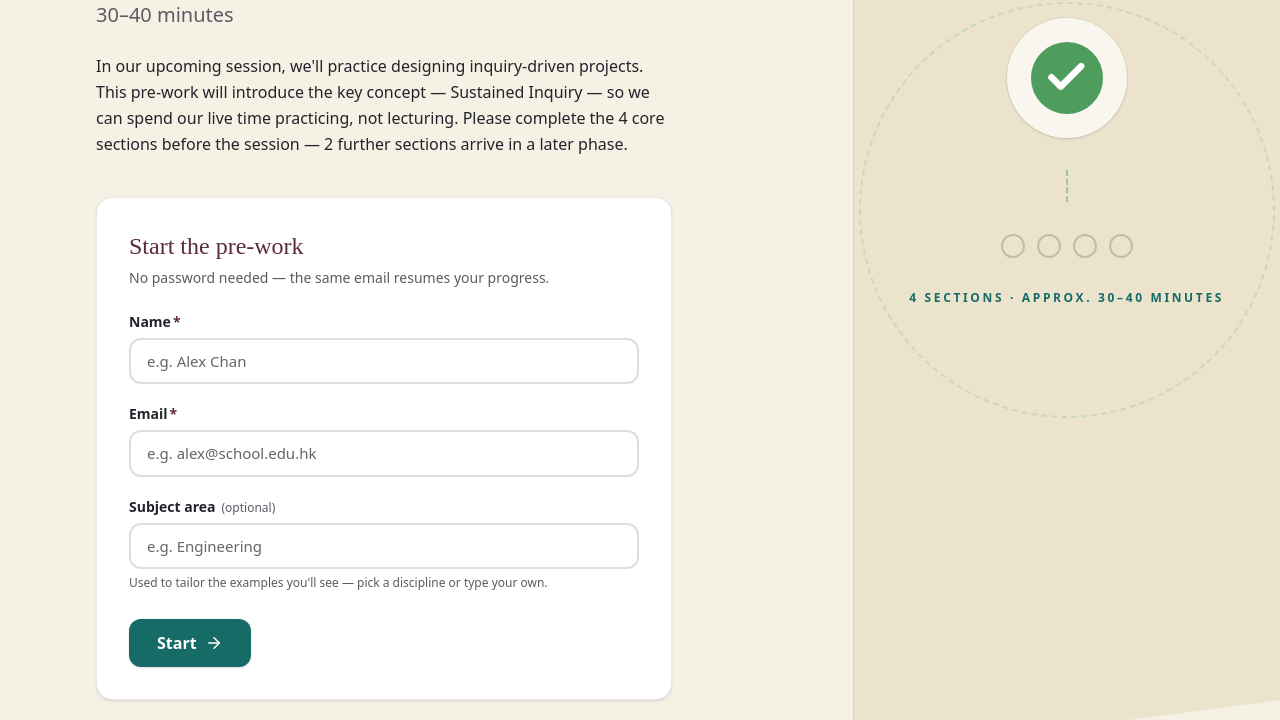
Landing › blocks submit when the email format is invalid
This screenshot has width=1280, height=720.
(page scrolled)
Expected: the button "Start" is shown, [129,619,251,667]
Step 1. Type "Alex Chan" into the field labelled "Name*" → [384, 361], box [129,338,639,384]
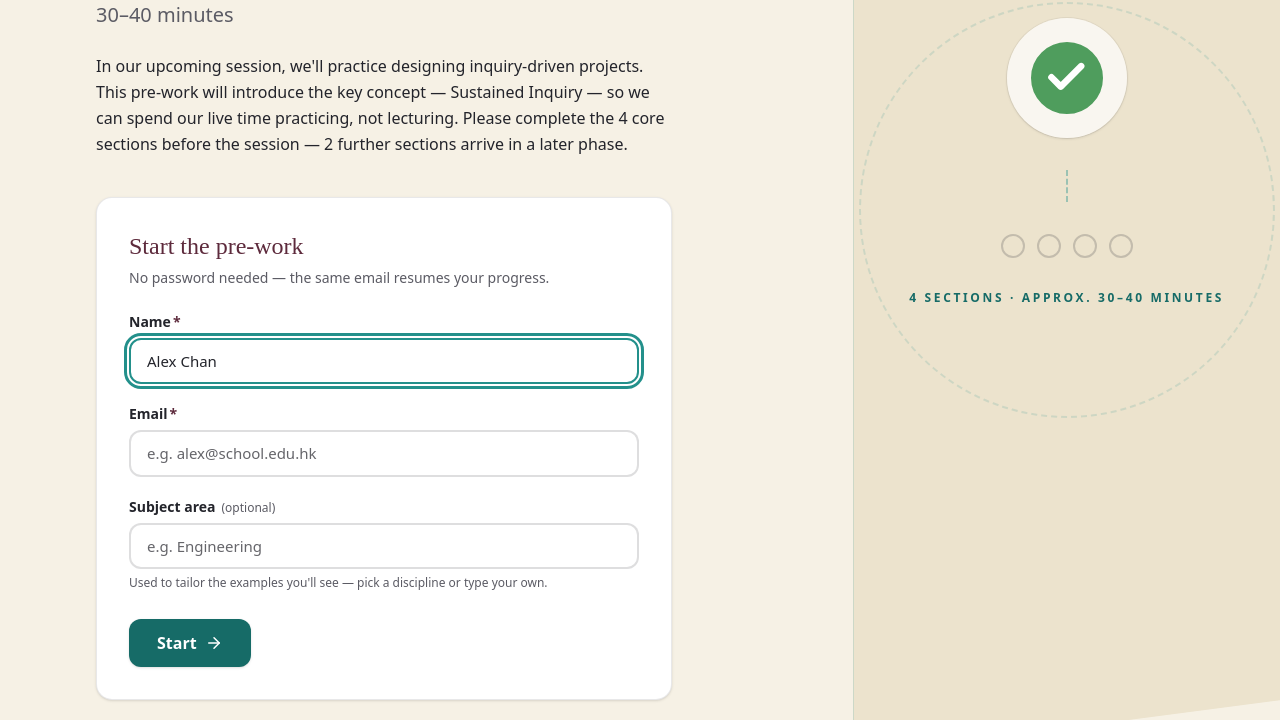
Step 2. Type "not-an-email" into the field labelled "Email*" → [384, 453], box [129,430,639,477]
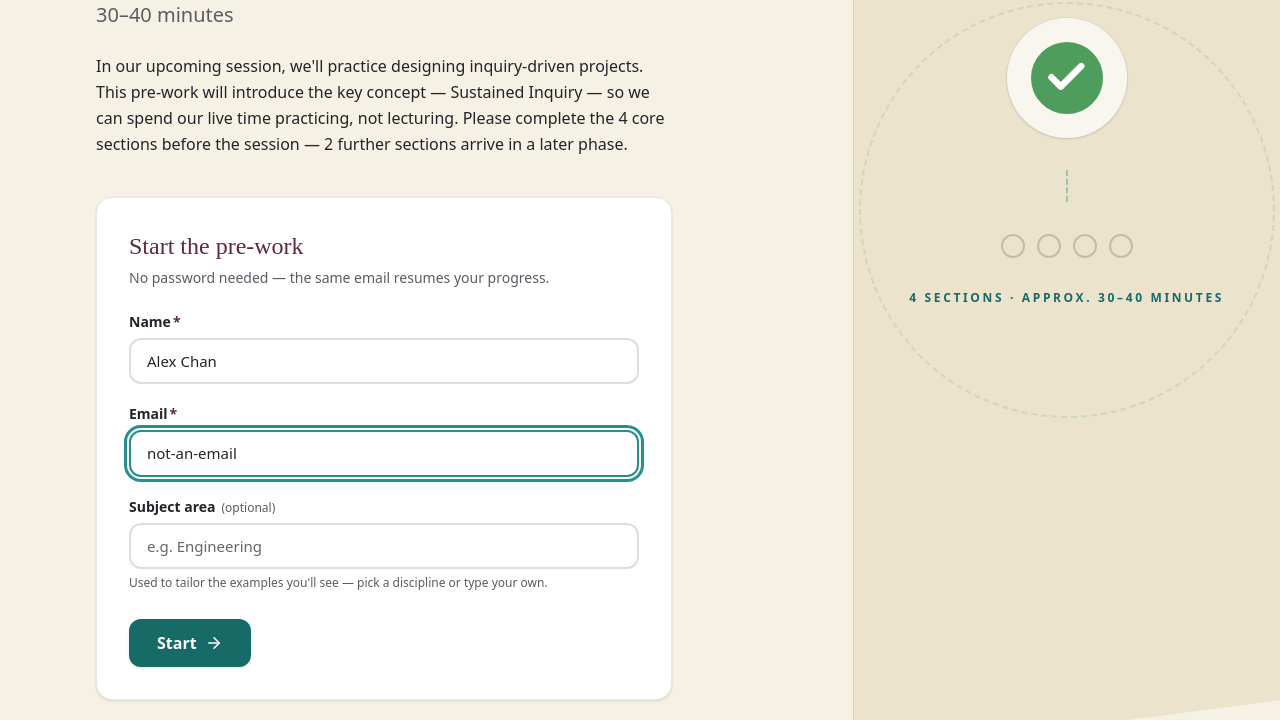
Step 3. Click the button "Start" → [190, 643], box [129,619,251,667]
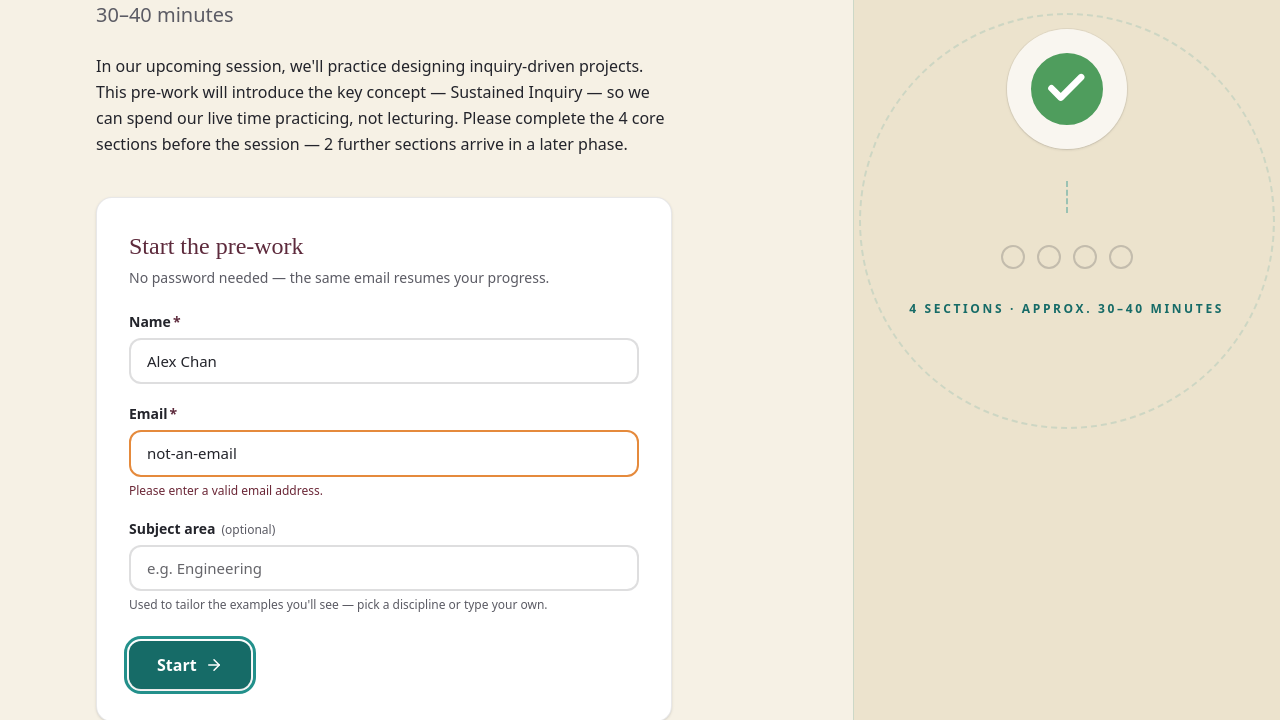
Expected: the text "Please enter a valid email address." is shown, [129,482,323,499]
